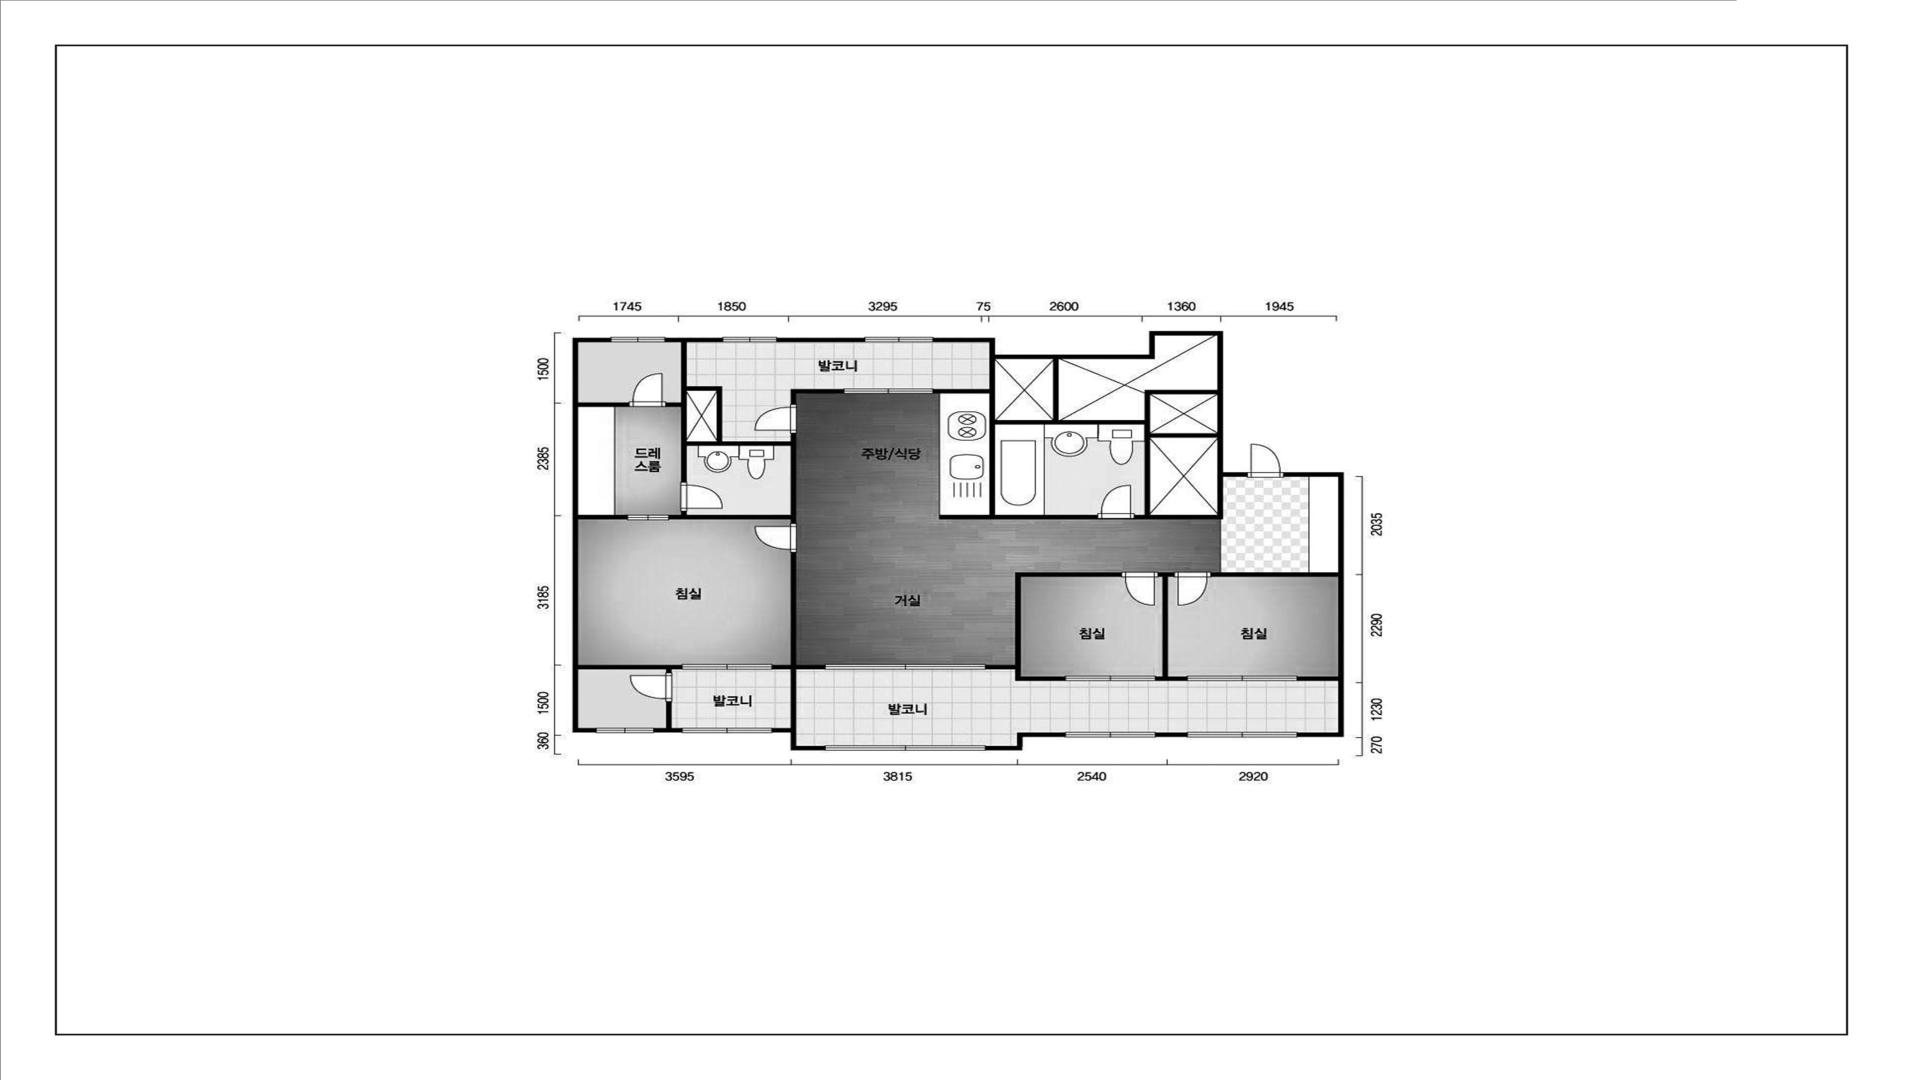door: (754, 404, 796, 434), (1098, 484, 1134, 520), (682, 481, 723, 512), (754, 524, 796, 553), (629, 673, 671, 702), (1247, 443, 1283, 477), (629, 373, 666, 406), (1174, 572, 1211, 605), (1122, 572, 1158, 605), (626, 514, 670, 520)
wall: (934, 359, 1224, 520), (934, 331, 1247, 476), (666, 342, 796, 524), (1283, 472, 1344, 737), (572, 338, 611, 732), (985, 572, 1122, 680), (773, 553, 825, 728), (1155, 572, 1187, 680), (687, 390, 717, 442), (985, 732, 1065, 750), (771, 728, 825, 750), (578, 665, 682, 673), (791, 389, 844, 404), (1211, 572, 1338, 576), (777, 338, 865, 342), (666, 338, 723, 342), (578, 402, 629, 406), (578, 516, 626, 520), (1298, 676, 1338, 680), (666, 702, 671, 728), (1155, 733, 1187, 737), (654, 728, 682, 732)
window: (825, 745, 985, 750), (825, 665, 985, 669), (1065, 732, 1155, 737), (844, 389, 934, 394), (1187, 733, 1298, 737), (1187, 676, 1298, 680), (682, 665, 773, 669), (1064, 676, 1155, 680), (682, 728, 771, 732), (865, 338, 934, 342), (596, 728, 654, 732), (611, 338, 666, 342), (723, 338, 777, 342)
